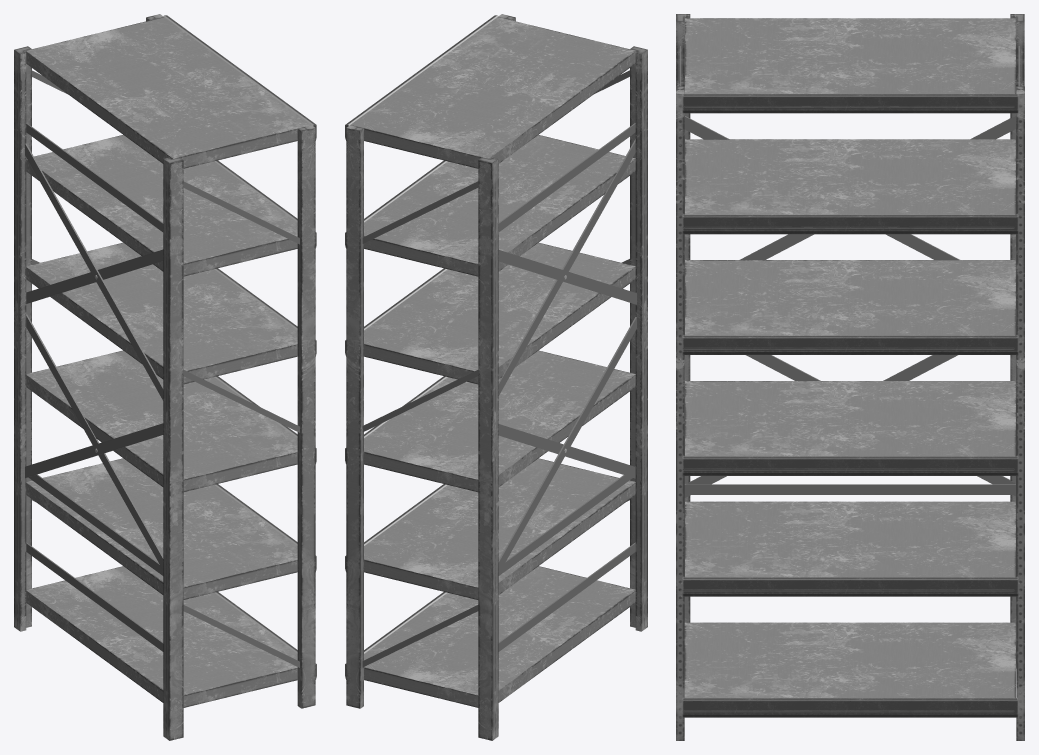
File: metal_shelf.glb
The picture shows the model from 3 angles, left to right: view 1: azimuth 30°, elevation 25°; view 2: azimuth 150°, elevation 25°; view 3: azimuth 270°, elevation 25°; orthographic projection. The views are drawn at different scales.
Visible parts, largest first — view 1: Shelf_Low; view 2: Shelf_Low; view 3: Shelf_Low.
Part boxes in pixels (x1,y1,x2,y2): Shelf_Low: (14, 14, 316, 740); Shelf_Low: (345, 14, 647, 740); Shelf_Low: (676, 14, 1024, 740).
Size of the model in its own units: 0.866 by 3.19 by 1.55.
1 material, 1 textured.
